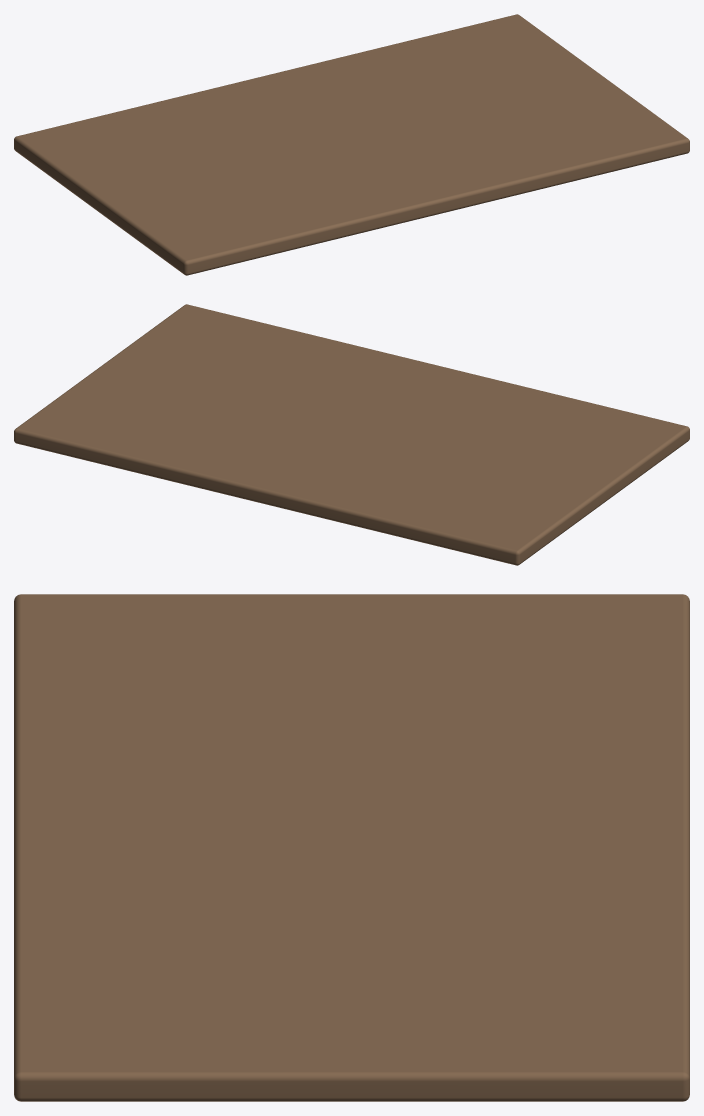
File: desk.glb
3 renders of one model, top to bottom at view 1: azimuth 30°, elevation 25°; view 2: azimuth 150°, elevation 25°; view 3: azimuth 270°, elevation 25°, orthographic. The views are drawn at different scales.
Visible parts, largest first — view 1: Desk Atlas / support; view 2: Desk Atlas / support; view 3: Desk Atlas / support.
Boxes of the visible parts, x1,y1,x2,y2 form: Desk Atlas / support: (14, 14, 689, 275); Desk Atlas / support: (14, 304, 689, 565); Desk Atlas / support: (14, 594, 689, 1101).
Bounding box in the file's own units: 1.42 × 0.04 × 0.84.
